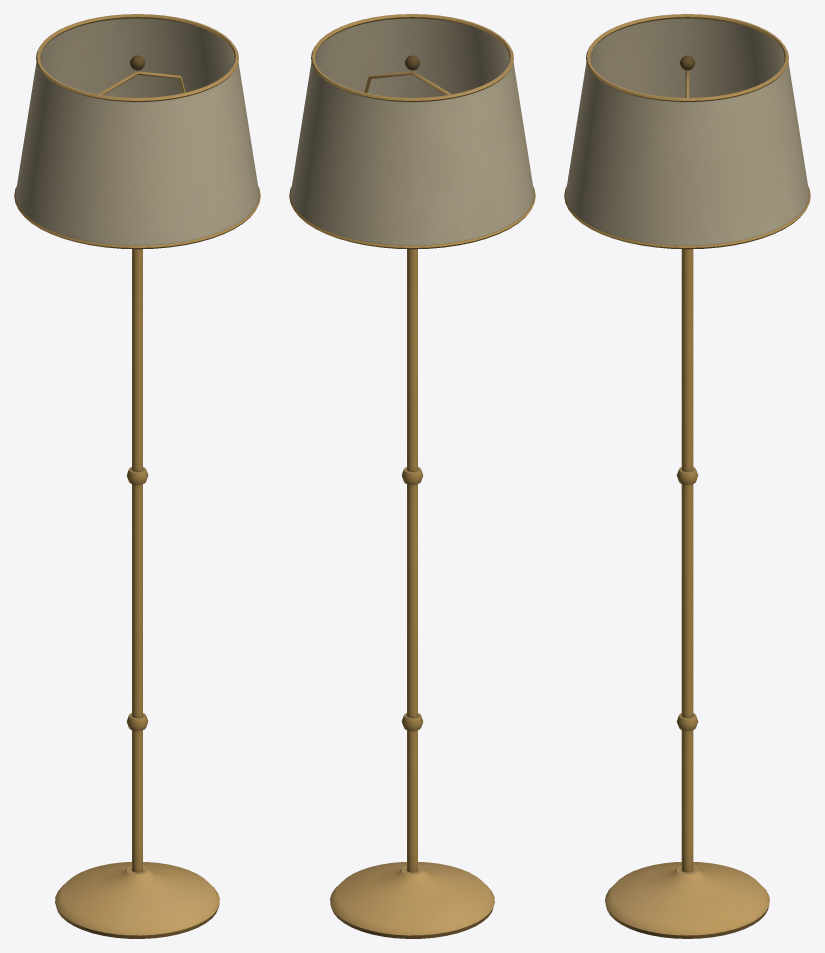
Rendered from floor_lamp.glb.
3 views of the same model, side by side, from view 1: azimuth 30°, elevation 25°; view 2: azimuth 150°, elevation 25°; view 3: azimuth 270°, elevation 25° (orthographic).
Parts seen in each view (by area): view 1: floor_lamp; view 2: floor_lamp; view 3: floor_lamp.
Boxes of the visible parts, <box> form: floor_lamp: <box>14,14,260,938</box>; floor_lamp: <box>289,14,535,938</box>; floor_lamp: <box>564,14,810,938</box>.
Size of the model in its own units: 0.454 by 1.72 by 0.454.
1 material, 1 textured.
